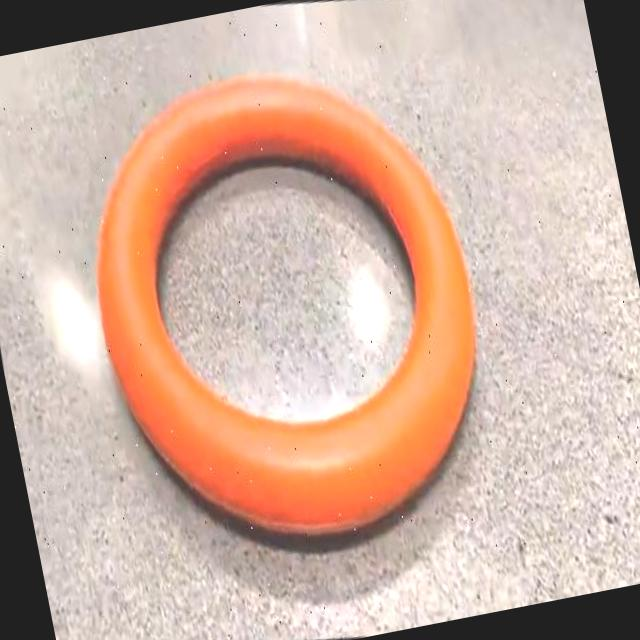note: (98, 77, 474, 532)
